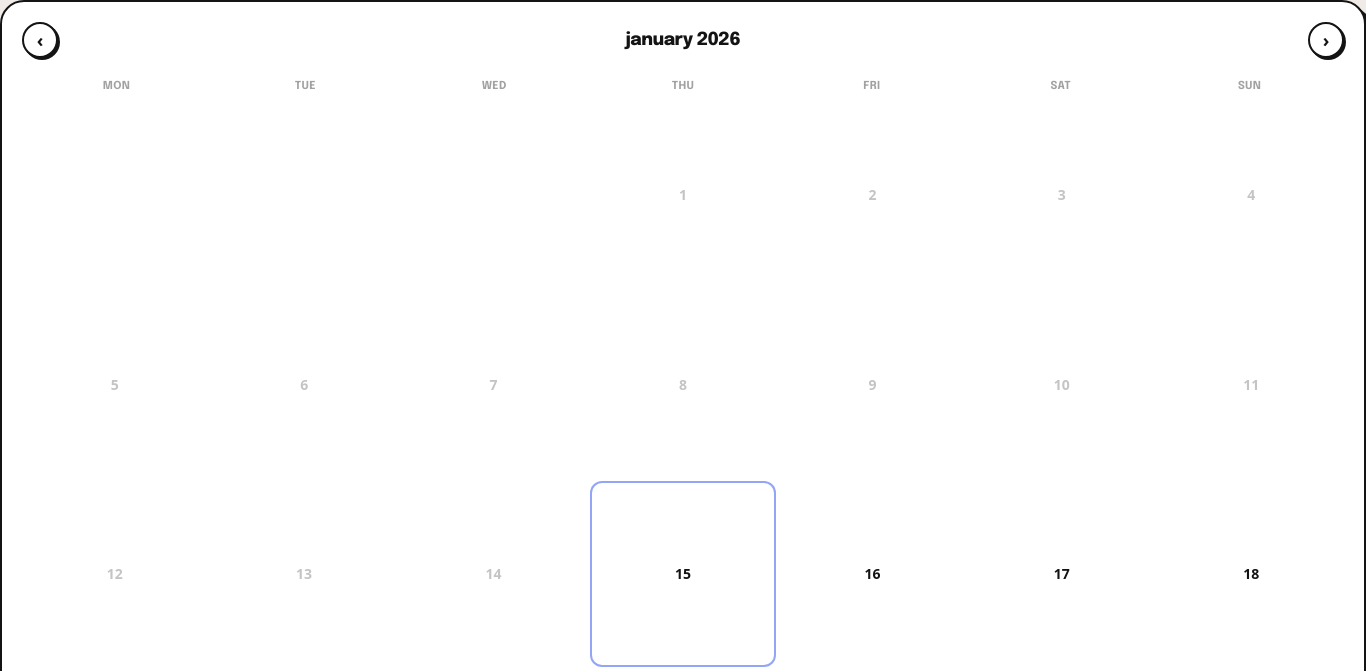
Test: Calendar › wraps prev month across year boundary
Expected: the text "January 2026" is shown, [626, 26, 740, 54]
Click the button named "Previous month" at (40, 40), box [22, 22, 58, 58]
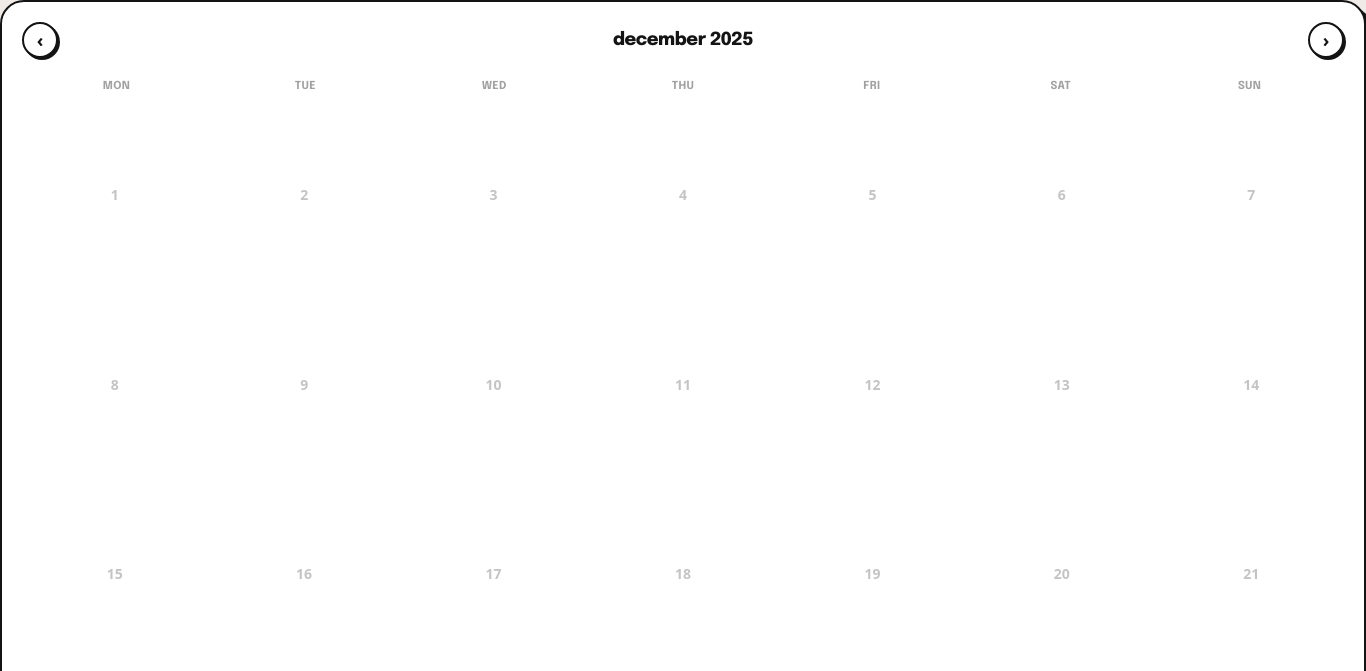
Expected: the text "December 2025" is shown, [613, 26, 753, 54]
